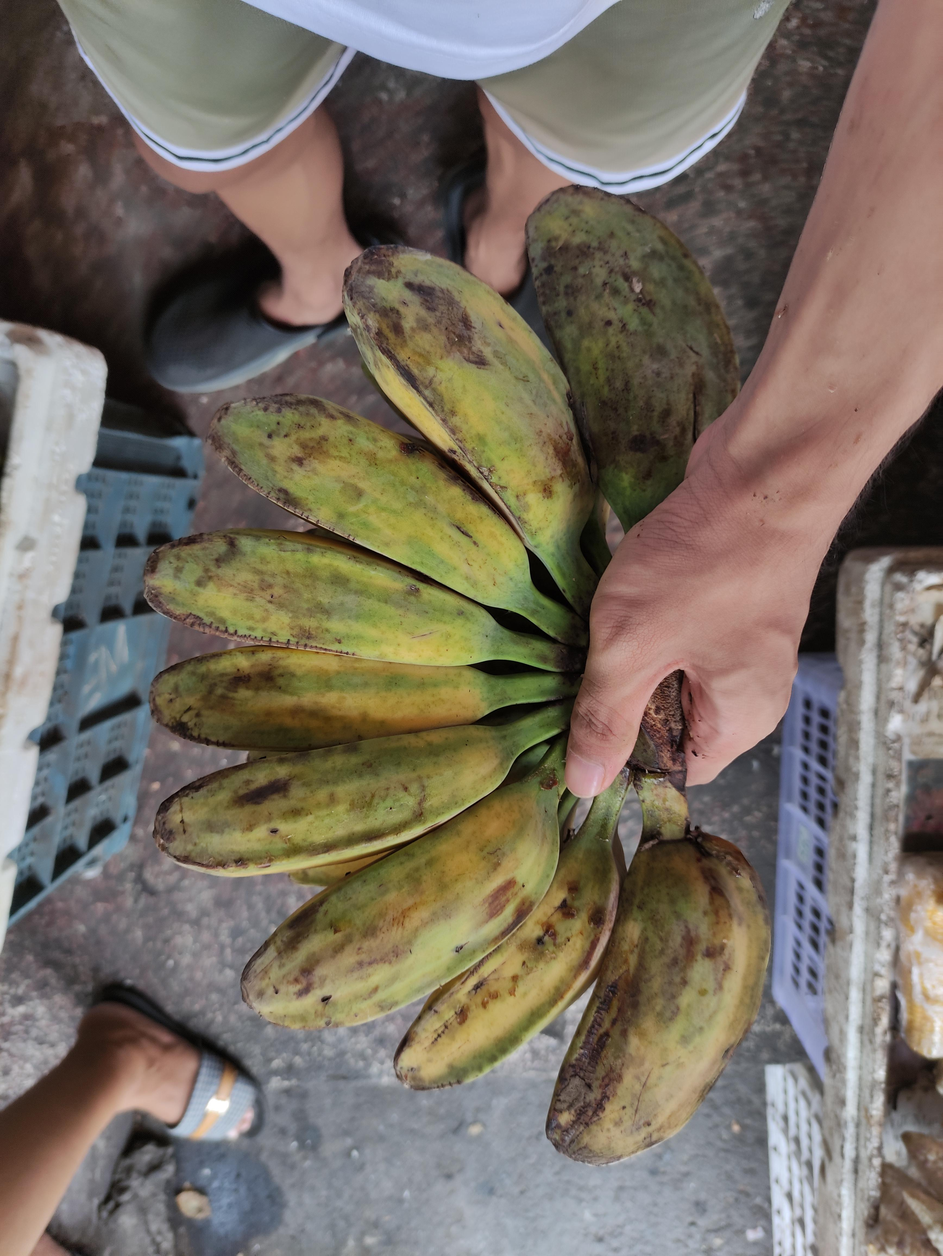underripe: (145, 194, 770, 1163)
